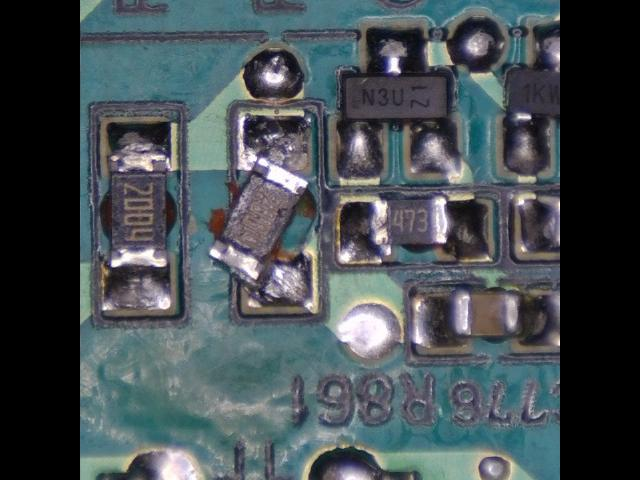Incorrect_installation: (208, 111, 315, 309), (340, 197, 489, 263), (416, 288, 561, 348)
